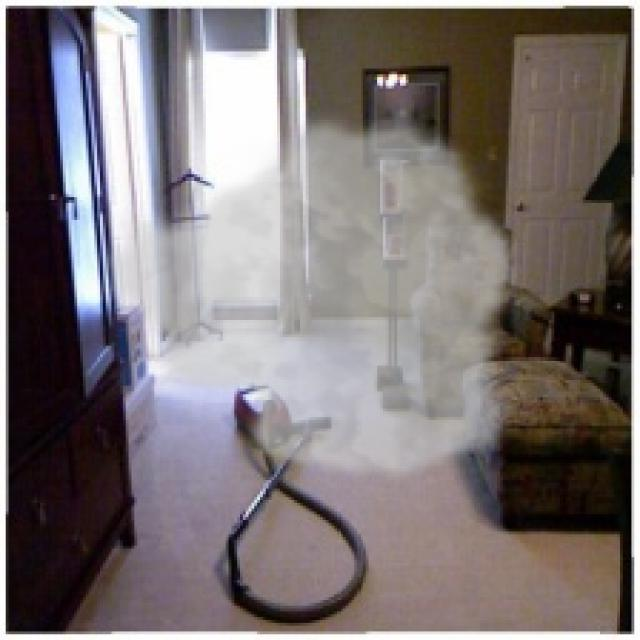Smoke: (97, 106, 523, 486)
